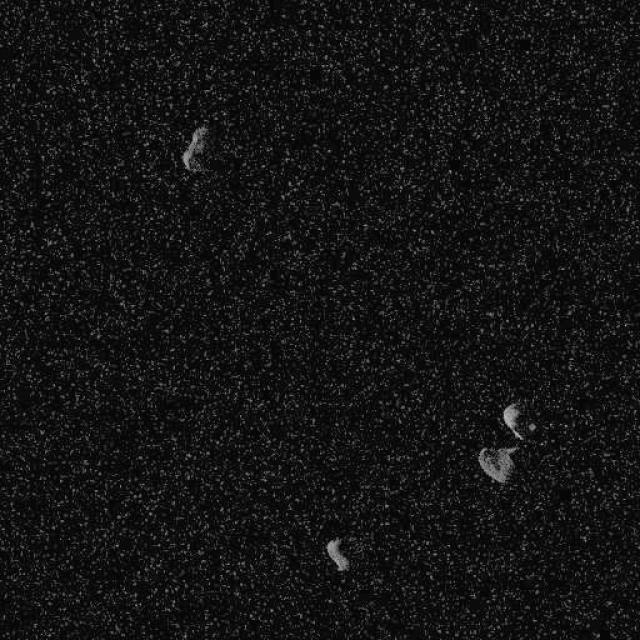D2: (477, 444, 518, 484), (180, 124, 211, 172), (502, 400, 536, 441), (325, 536, 350, 572)
